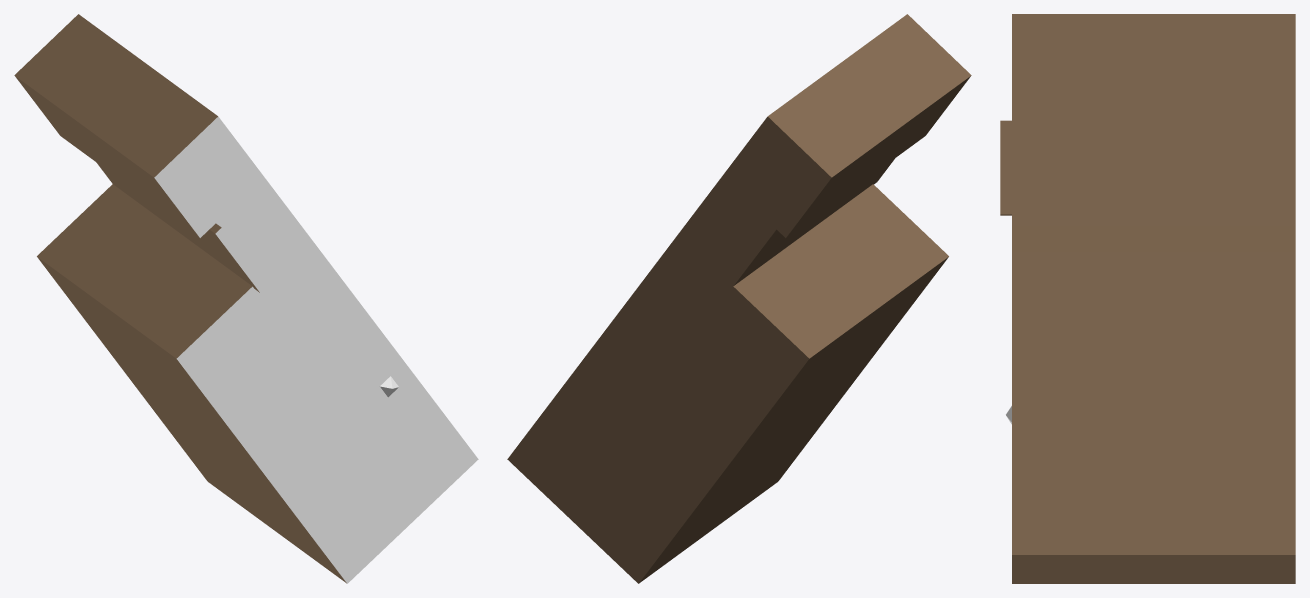
3 renders of one model, left to right at view 1: azimuth 30°, elevation 25°; view 2: azimuth 150°, elevation 25°; view 3: azimuth 270°, elevation 25°, orthographic.
Visible parts, largest first — view 1: City_2316492; view 2: City_2316492; view 3: City_2316492.
Boxes of the visible parts, left/top/right/bottom form: City_2316492: left=14, top=14, right=478, bottom=583; City_2316492: left=507, top=14, right=971, bottom=583; City_2316492: left=1000, top=14, right=1295, bottom=583.
Size of the model in its own units: 1460 by 2146 by 1136.
